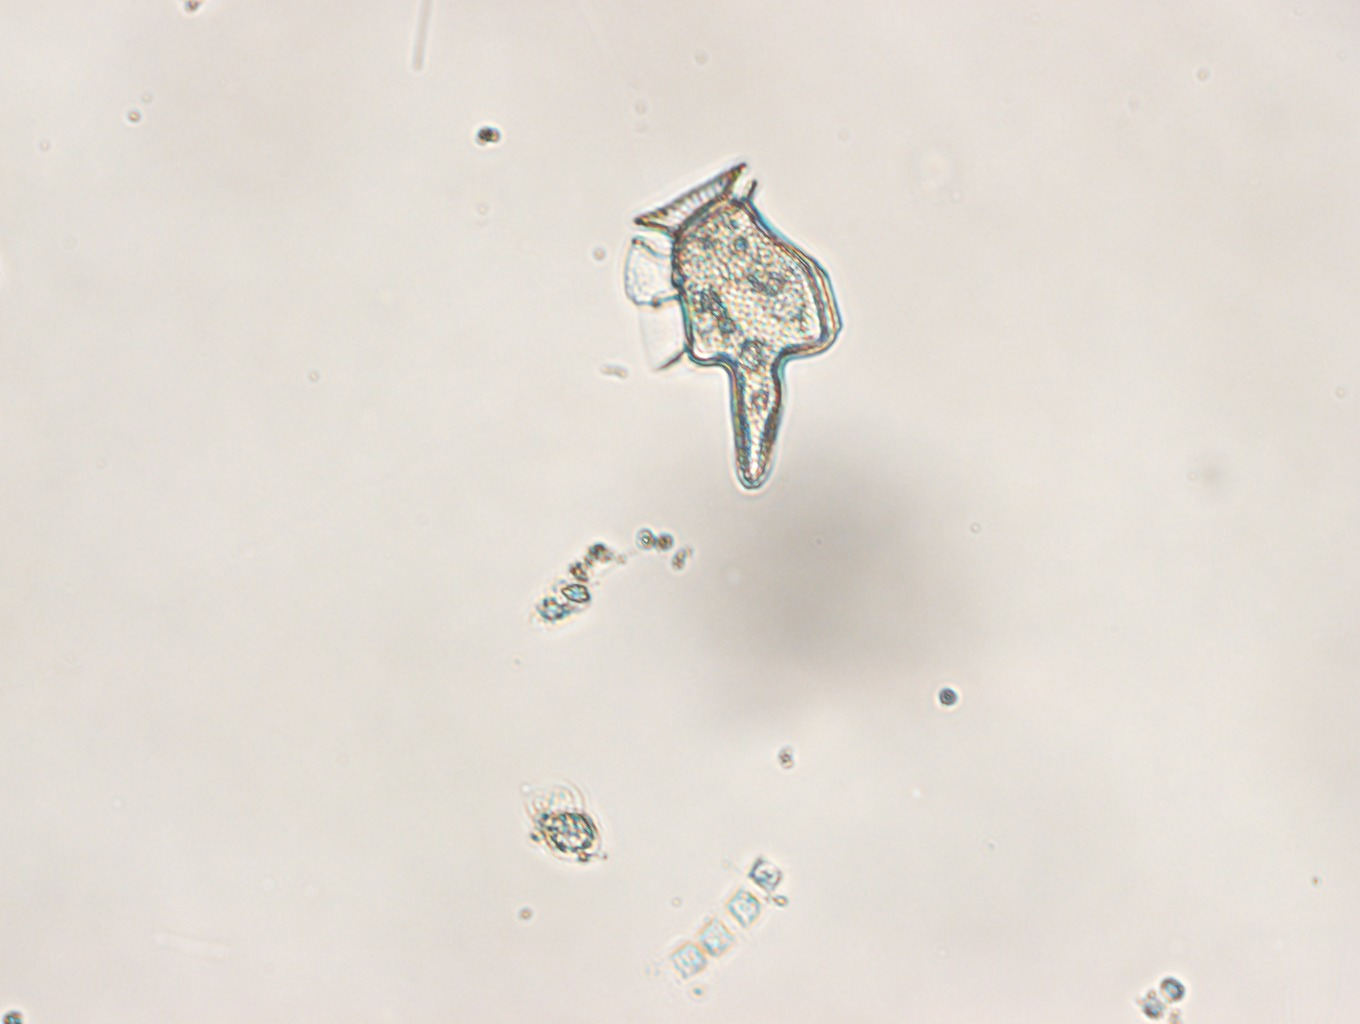chaetoceros: (653, 831, 800, 1018)
dinophysis caudata: (622, 160, 842, 490)
